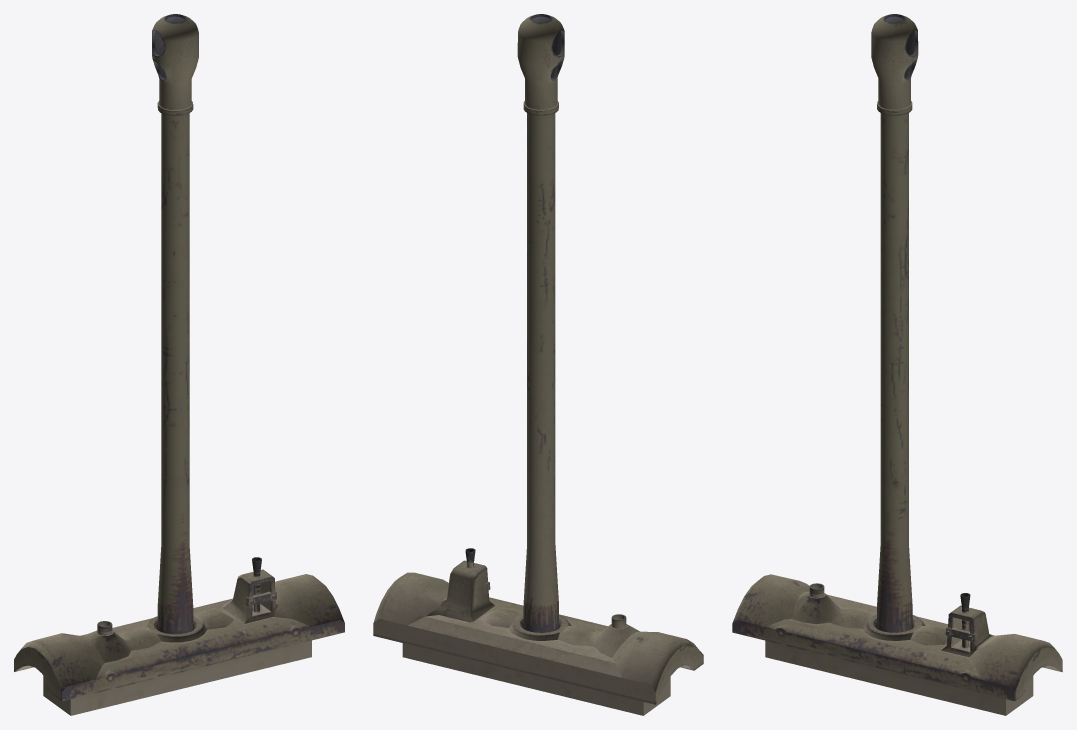
File: Gun_07.glb
3 views of the same model, side by side, from view 1: azimuth 30°, elevation 25°; view 2: azimuth 150°, elevation 25°; view 3: azimuth 330°, elevation 25° (orthographic).
Visible parts, largest first — view 1: set_0_group_0; view 2: set_0_group_0; view 3: set_0_group_0.
Part boxes in pixels (<box>): set_0_group_0: <box>14,14,344,715</box>; set_0_group_0: <box>373,14,703,715</box>; set_0_group_0: <box>732,14,1062,715</box>.
Size of the model in its own units: 1.53 by 3.41 by 0.4497.
1 material, 1 textured.
